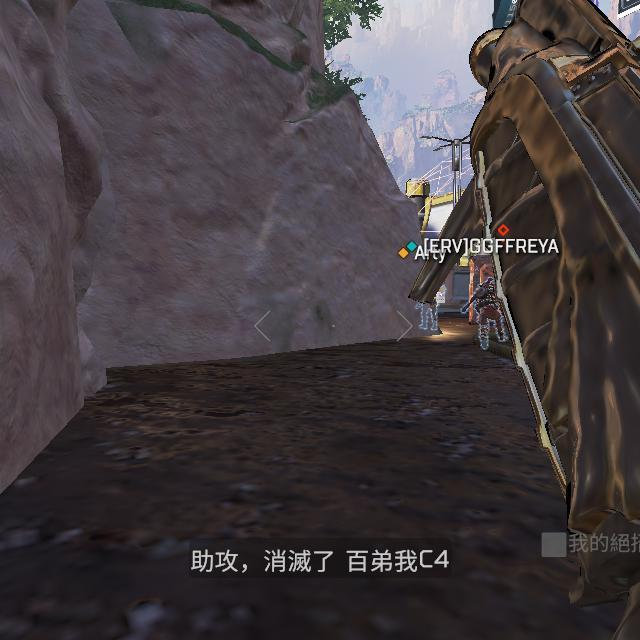avatar: (469, 276, 509, 352)
